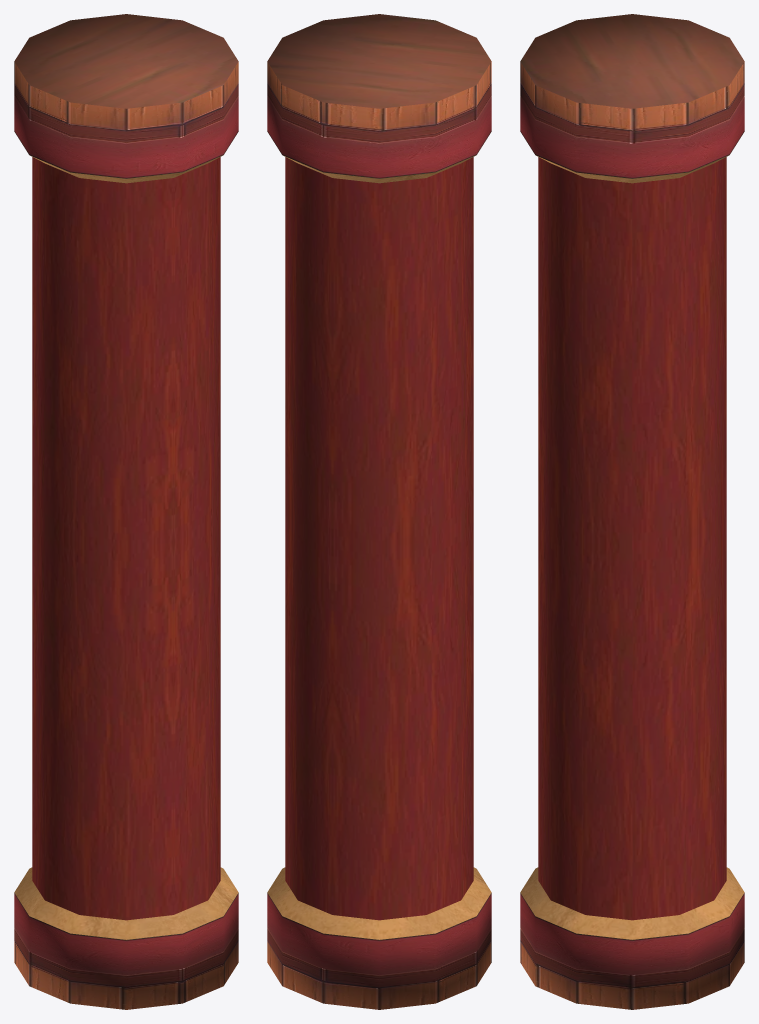
File: column.glb
The picture shows the model from 3 angles, left to right: view 1: azimuth 30°, elevation 25°; view 2: azimuth 150°, elevation 25°; view 3: azimuth 270°, elevation 25°; orthographic projection.
Parts seen in each view (by area): view 1: Column; view 2: Column; view 3: Column.
Part boxes in pixels (<box>): Column: <box>14,14,238,1009</box>; Column: <box>267,14,491,1009</box>; Column: <box>520,14,744,1009</box>.
Size of the model in its own units: 1.49 by 6.58 by 1.49.
3 materials, 3 textured.
